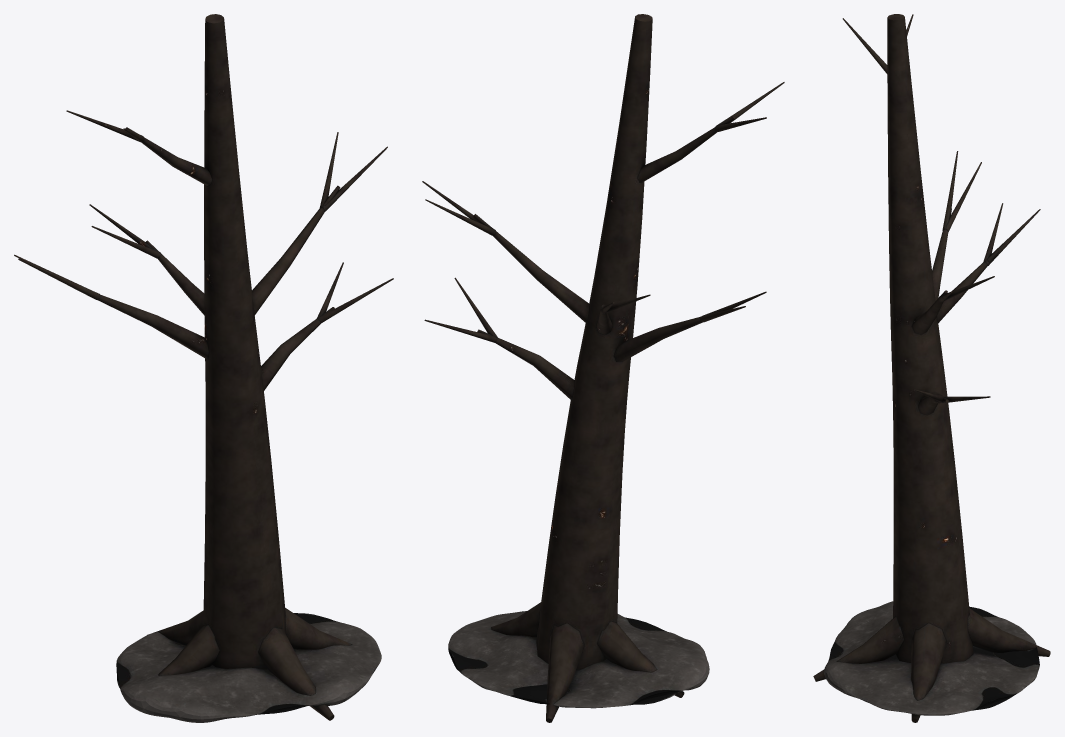
Rendered from vale_arvore_queimada_c.glb.
The picture shows the model from 3 angles, left to right: view 1: azimuth 30°, elevation 25°; view 2: azimuth 150°, elevation 25°; view 3: azimuth 270°, elevation 25°; orthographic projection. The views are drawn at different scales.
Visible parts, largest first — view 1: vale_arvore_queimada_c_tronco; view 2: vale_arvore_queimada_c_tronco; view 3: vale_arvore_queimada_c_tronco.
Part boxes in pixels (box(x1,y1,x2,y2)): vale_arvore_queimada_c_tronco: box(14, 14, 393, 722); vale_arvore_queimada_c_tronco: box(422, 14, 784, 722); vale_arvore_queimada_c_tronco: box(813, 14, 1050, 722).
Bounding box in the file's own units: 3.53 × 6.43 × 2.15.
Materials: 1 (1 with a texture image).
